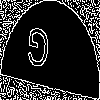G: (25, 25, 51, 78)
